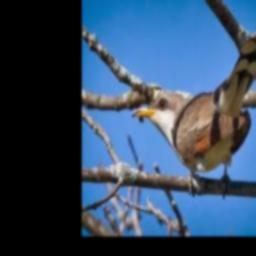Cuckoo: (131, 22, 256, 182)
